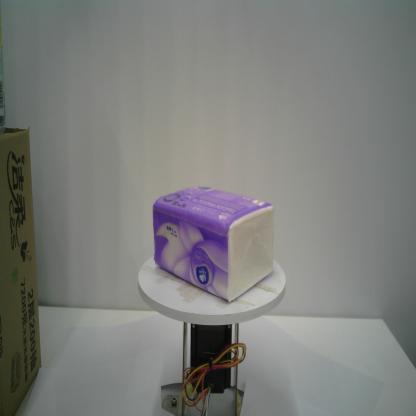Tissue: (149, 183, 276, 303)
